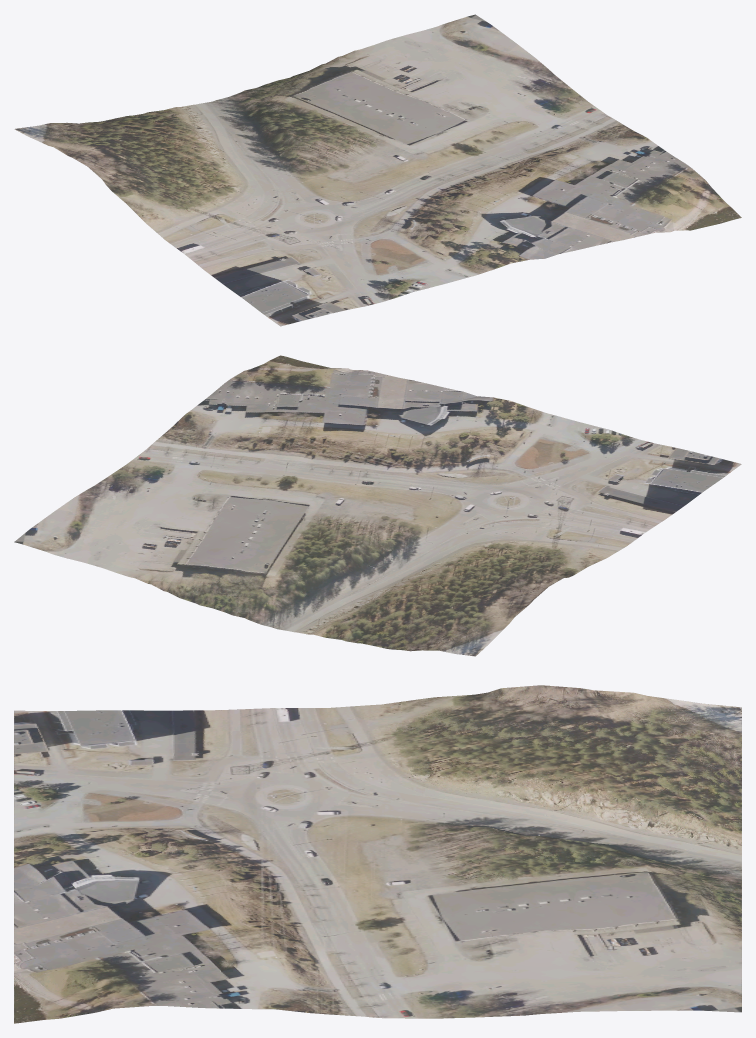
File: CM_Terrain_24492097_6816517.fbx
3 renders of one model, top to bottom at view 1: azimuth 30°, elevation 25°; view 2: azimuth 150°, elevation 25°; view 3: azimuth 270°, elevation 25°, orthographic. The views are drawn at different scales.
Parts seen in each view (by area): view 1: CM_Terrain_24492097_6816517_LOD0; view 2: CM_Terrain_24492097_6816517_LOD0; view 3: CM_Terrain_24492097_6816517_LOD0.
Boxes of the visible parts, x1,y1,x2,y2 form: CM_Terrain_24492097_6816517_LOD0: (14, 14, 741, 326); CM_Terrain_24492097_6816517_LOD0: (14, 355, 741, 656); CM_Terrain_24492097_6816517_LOD0: (14, 685, 741, 1023).
Size of what is drawn, in the model's own units: 205 by 15.8 by 205.
